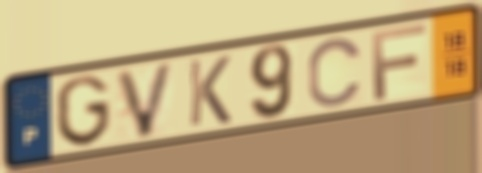9: (246, 40, 299, 122)
C: (305, 34, 365, 110)
F: (368, 21, 430, 104)
G: (52, 71, 114, 149)
K: (185, 53, 234, 130)
V: (113, 58, 179, 141)
